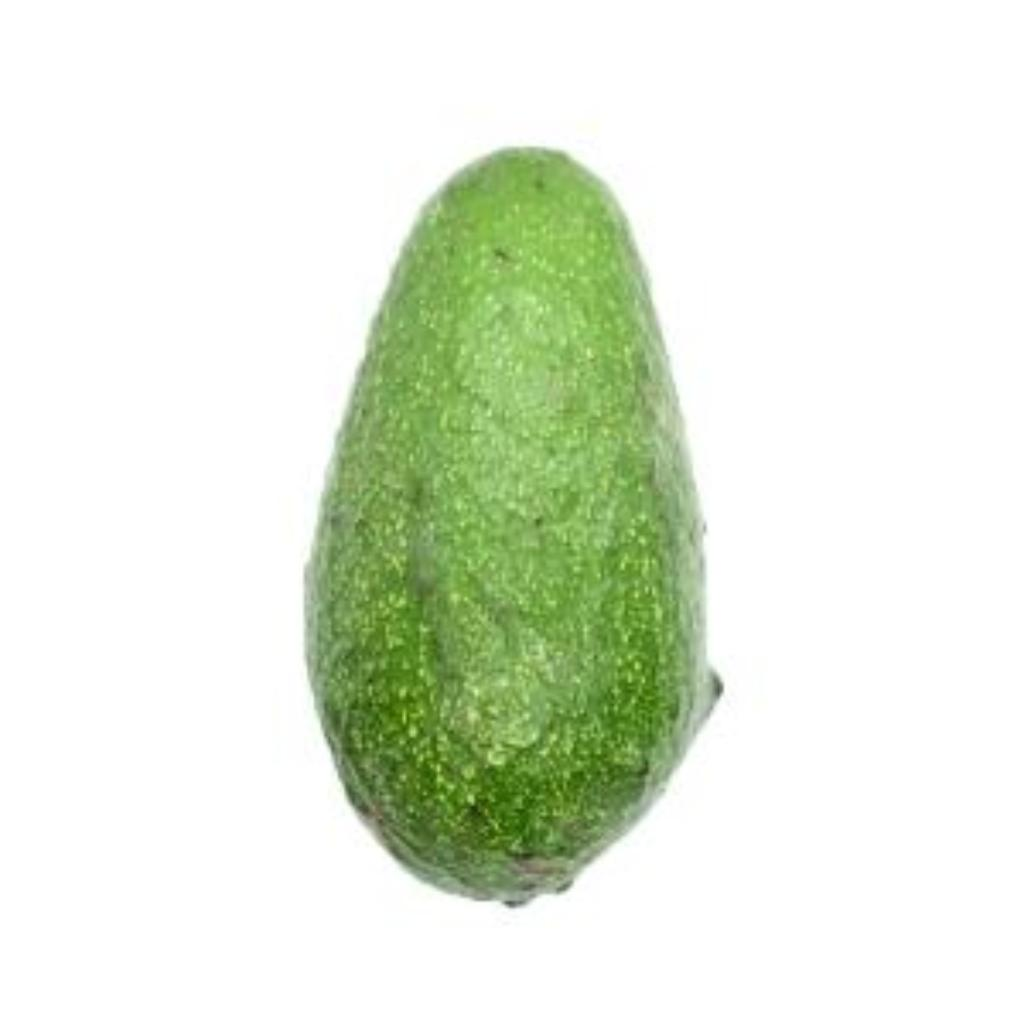cercospora: (278, 120, 735, 918)
